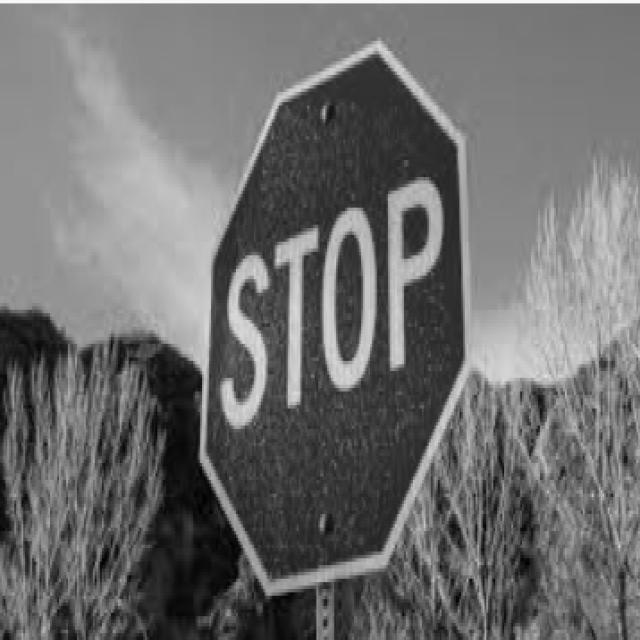Stop-signs: (200, 42, 470, 597)
